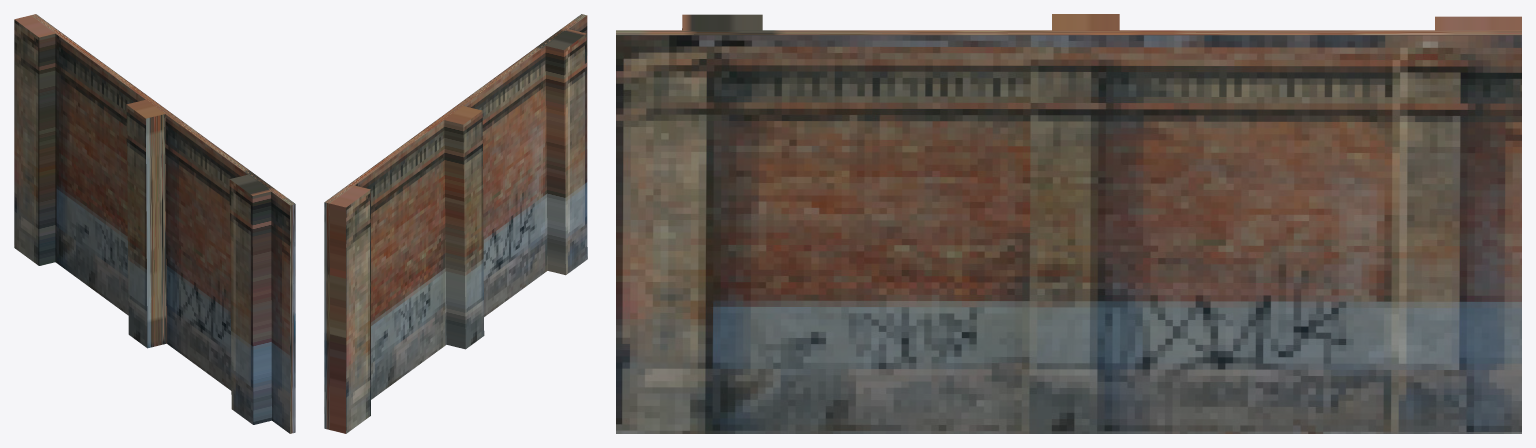
Rendered from brick wall.fbx.
The picture shows the model from 3 angles, left to right: view 1: azimuth 30°, elevation 25°; view 2: azimuth 150°, elevation 25°; view 3: azimuth 270°, elevation 25°; orthographic projection. The views are drawn at different scales.
Parts seen in each view (by area): view 1: Cube; view 2: Cube; view 3: Cube.
Boxes of the visible parts, x1,y1,x2,y2 form: Cube: (14,14,295,433); Cube: (324,14,587,433); Cube: (616,14,1521,433).
Bounding box in the file's own units: 101 × 880 × 1811.
